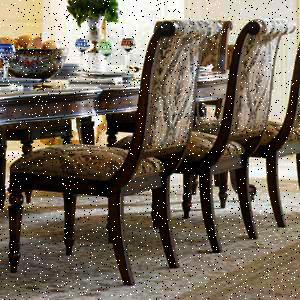Silla: (11, 21, 218, 283), (107, 19, 291, 245), (184, 18, 299, 223)
